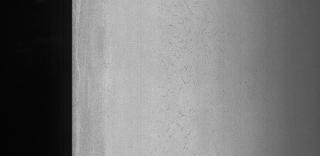silk spot: (155, 2, 213, 156)
